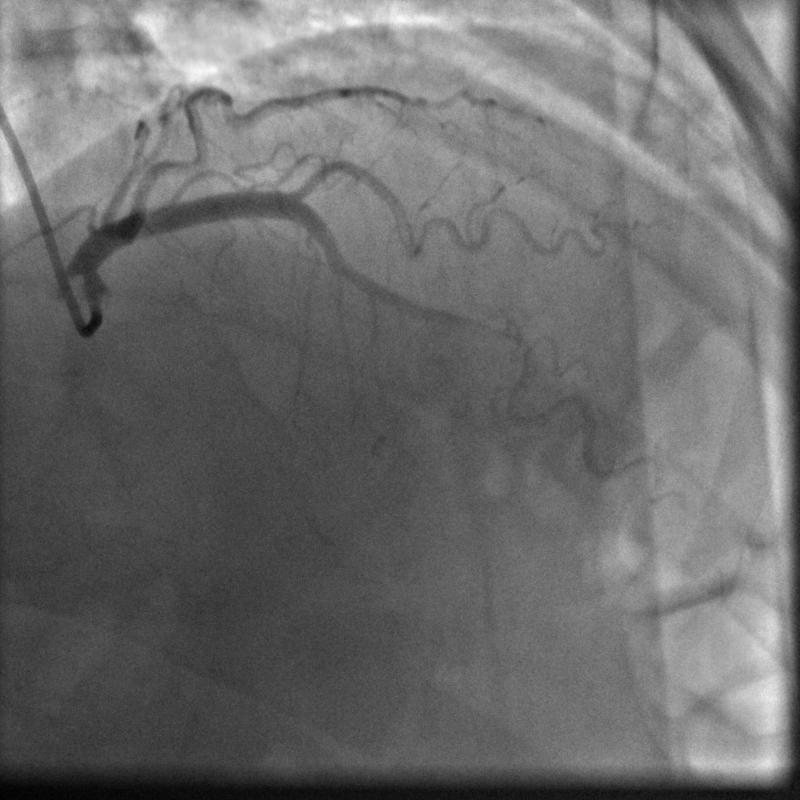Stenosis: (475, 316, 537, 363)
